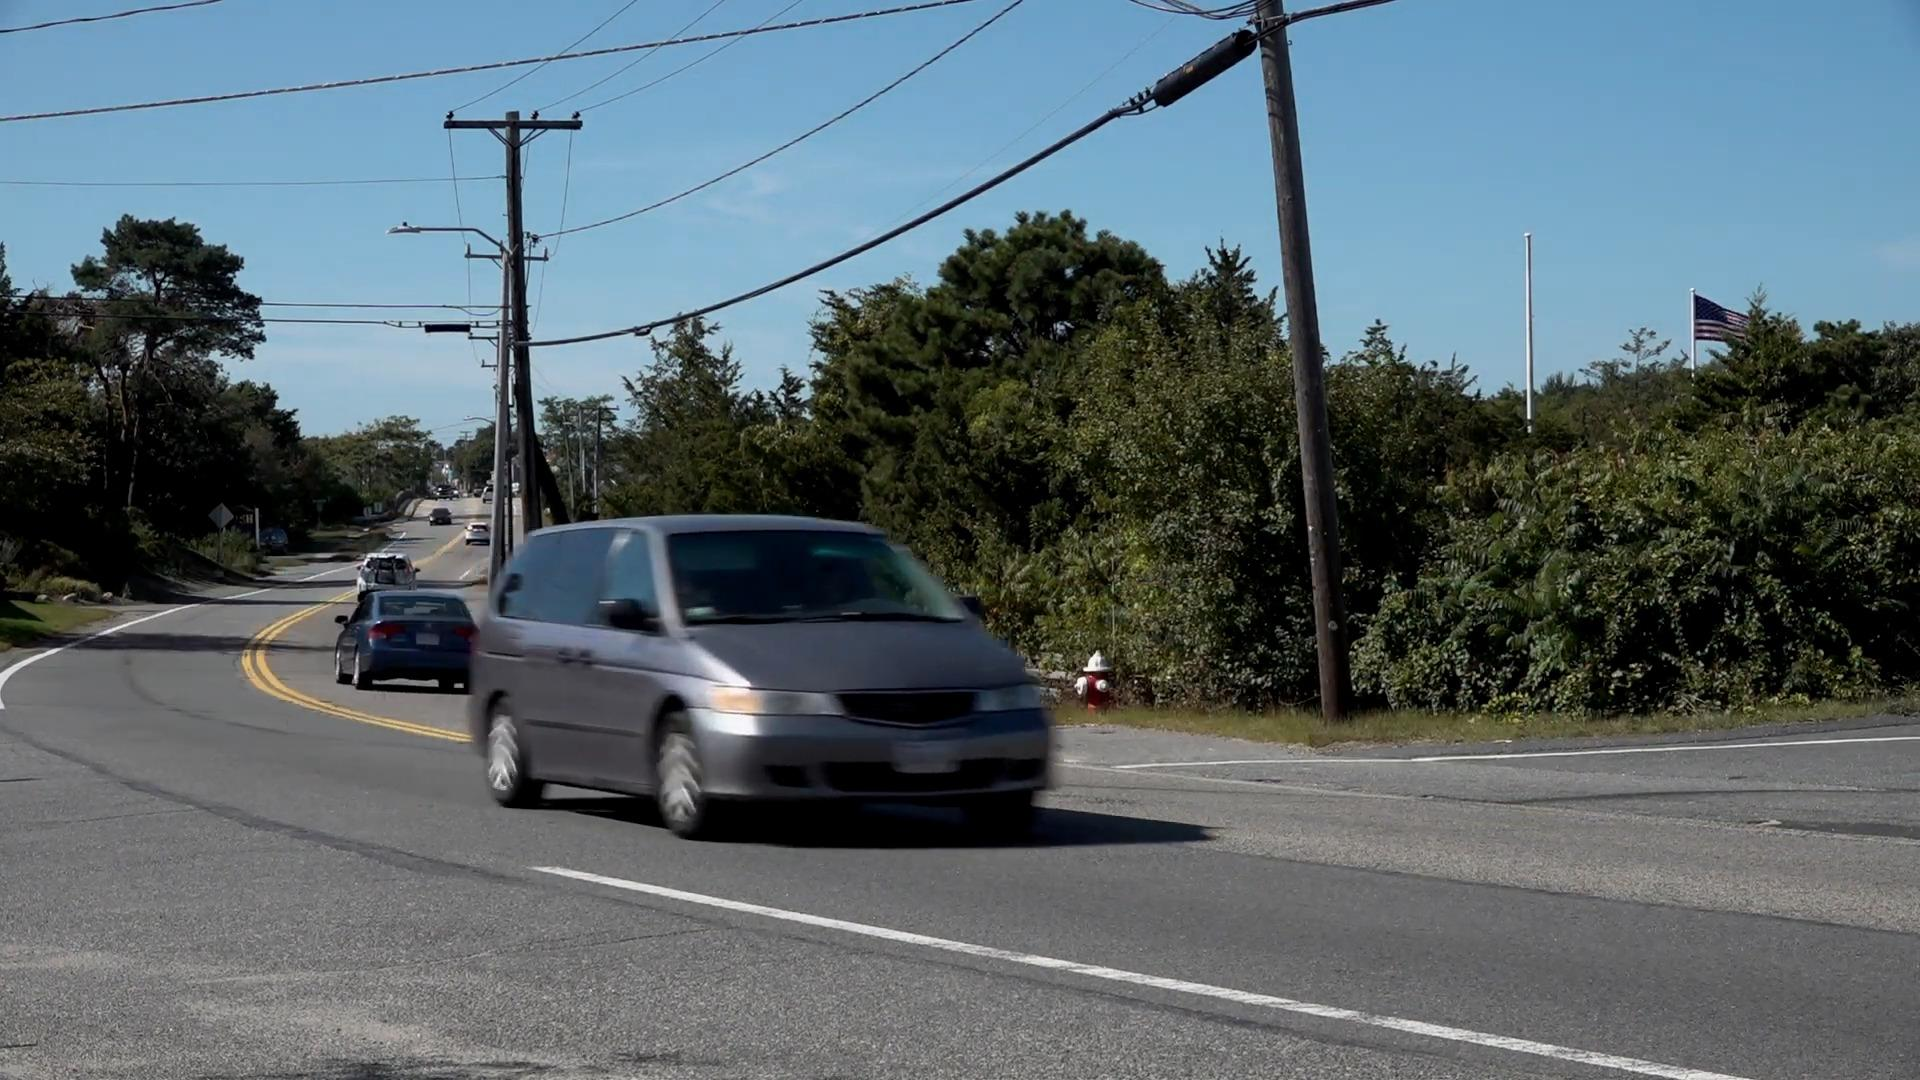minivan: (488, 516, 1052, 837)
sedans: (336, 589, 475, 684)
